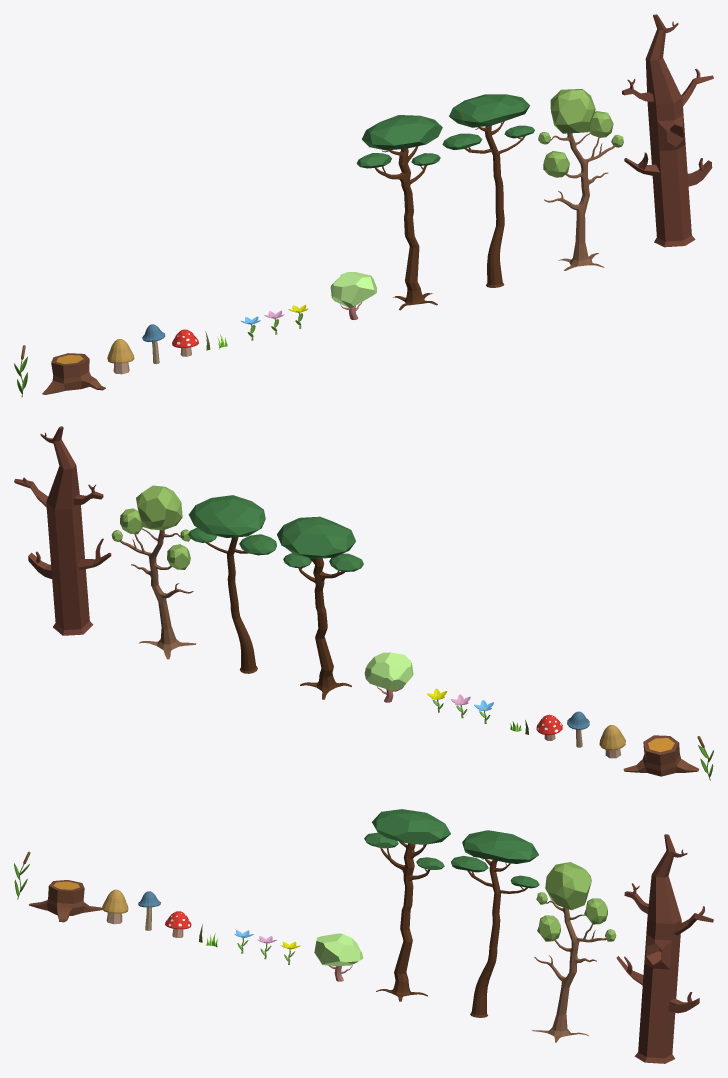
The model's file is forest-kit.glb.
3 views of the same model, one above another, from view 1: azimuth 30°, elevation 25°; view 2: azimuth 150°, elevation 25°; view 3: azimuth 330°, elevation 25° (orthographic). The views are drawn at different scales.
Parts seen in each view (by area): view 1: Cylinder.001, Icosphere.002, Icosphere.004, Icosphere.005, Cylinder.002, Cylinder, Icosphere.012, Cylinder.003; view 2: Cylinder.001, Icosphere.002, Icosphere.004, Icosphere.005, Cylinder, Icosphere.012, Cylinder.002, Cylinder.003, Icosphere.006; view 3: Cylinder.001, Icosphere.002, Icosphere.004, Icosphere.005, Cylinder.002, Cylinder, Icosphere.012, Cylinder.003, Icosphere.006, Cylinder.005, Cylinder.004.
Part boxes in pixels (<box>): Cylinder.001: <box>622,14,713,247</box>; Icosphere.002: <box>356,115,442,310</box>; Icosphere.004: <box>538,89,623,270</box>; Icosphere.005: <box>449,94,529,127</box>; Cylinder.002: <box>464,121,525,287</box>; Cylinder: <box>42,353,105,394</box>; Icosphere.012: <box>330,272,376,319</box>; Cylinder.003: <box>107,339,134,374</box>; Cylinder.001: <box>14,426,111,635</box>; Icosphere.002: <box>277,516,363,699</box>; Icosphere.004: <box>111,485,196,659</box>; Icosphere.005: <box>188,495,265,537</box>; Cylinder: <box>623,735,699,776</box>; Icosphere.012: <box>364,652,413,702</box>; Cylinder.002: <box>205,537,257,673</box>; Cylinder.003: <box>599,725,625,758</box>; Icosphere.006: <box>239,534,276,555</box>; Cylinder.001: <box>616,834,713,1063</box>; Icosphere.002: <box>364,809,450,1001</box>; Icosphere.004: <box>532,862,616,1042</box>; Icosphere.005: <box>462,830,538,863</box>; Cylinder.002: <box>467,858,527,1017</box>; Cylinder: <box>29,880,101,922</box>; Icosphere.012: <box>314,933,363,981</box>; Cylinder.003: <box>102,889,128,924</box>; Icosphere.006: <box>451,856,488,872</box>; Cylinder.005: <box>165,911,191,937</box>; Cylinder.004: <box>138,891,160,930</box>.
Size of the model in its own units: 31.8 by 9.37 by 3.74.
